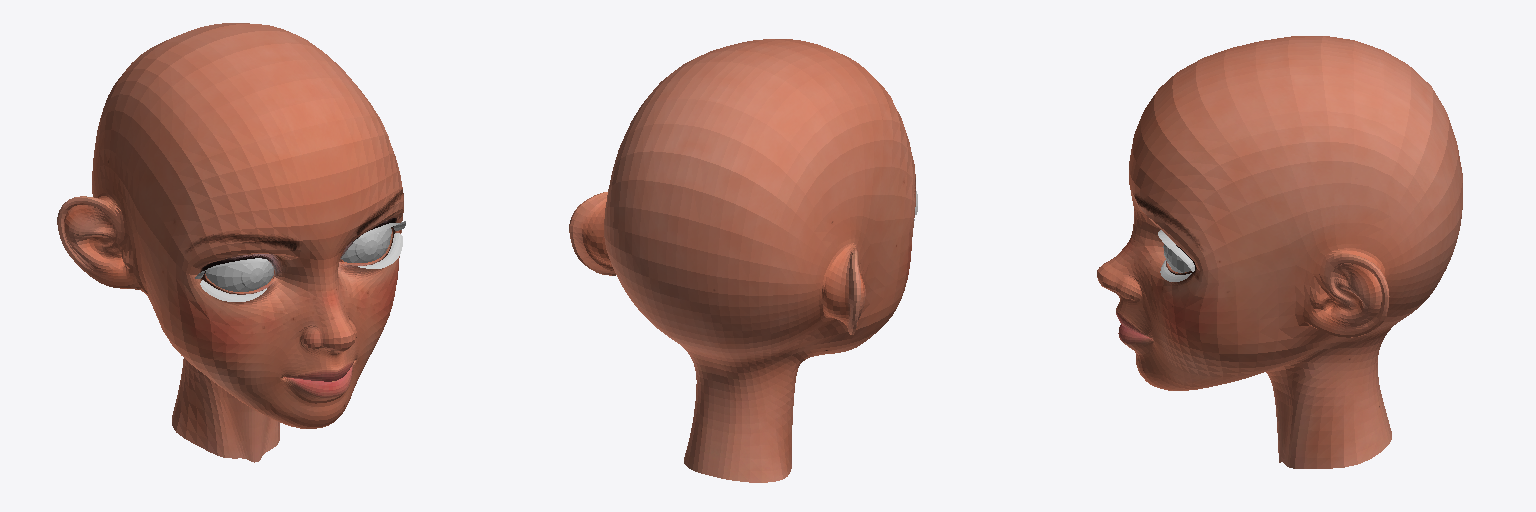
3 views of the same model, side by side, from view 1: azimuth 30°, elevation 25°; view 2: azimuth 150°, elevation 25°; view 3: azimuth 270°, elevation 25° (orthographic).
Parts seen in each view (by area): view 1: Girl_Face_Circle, Cornea_Sphere.001, EyeLashes_Circle.002; view 2: Girl_Face_Circle; view 3: Girl_Face_Circle, EyeLashes_Circle.002.
Part boxes in pixels (x1,y1,x2,y2): Girl_Face_Circle: (57,23,403,462); Cornea_Sphere.001: (205,228,391,291); EyeLashes_Circle.002: (195,221,405,301); Girl_Face_Circle: (569,39,915,482); Girl_Face_Circle: (1097,36,1462,468); EyeLashes_Circle.002: (1158,230,1194,281).
Size of the model in its own units: 2.4 by 3.25 by 2.62.
Materials: 4 (1 with a texture image).